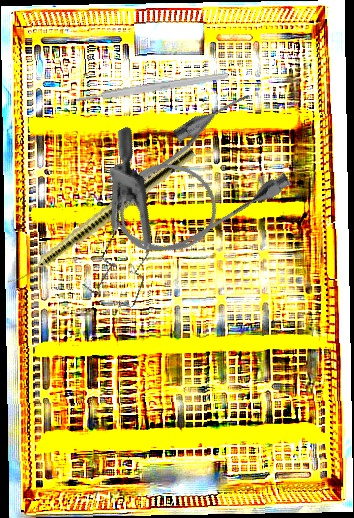Cannula: (91, 85, 303, 277)
Handpiece: (5, 142, 197, 293)
Scalpel Handle: (75, 71, 229, 104)
Speculum: (26, 125, 206, 323)
